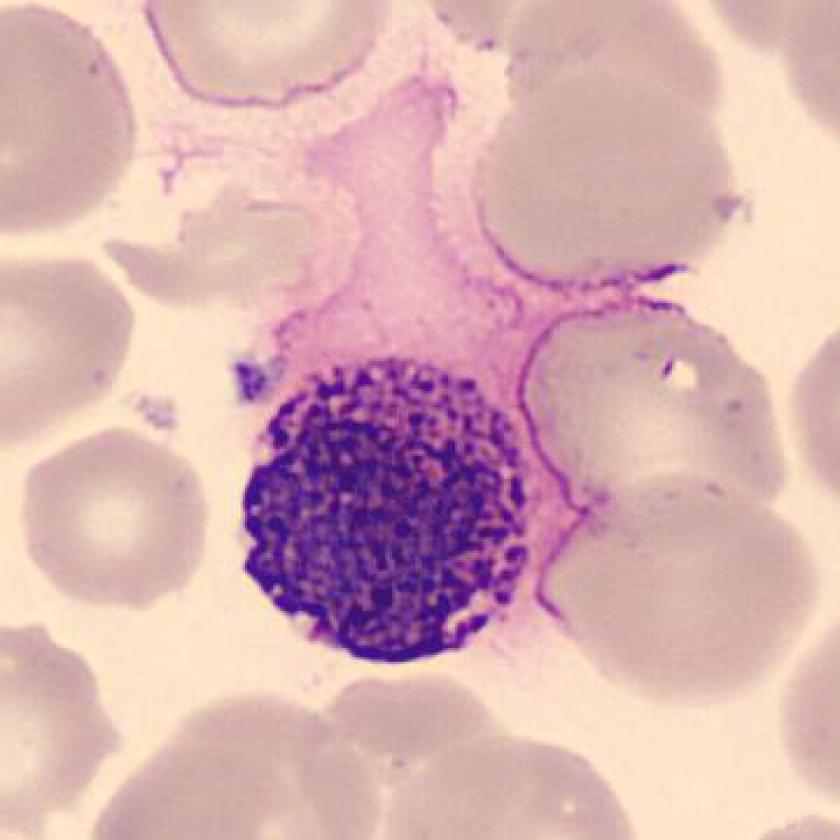basophil: (234, 362, 545, 665)
